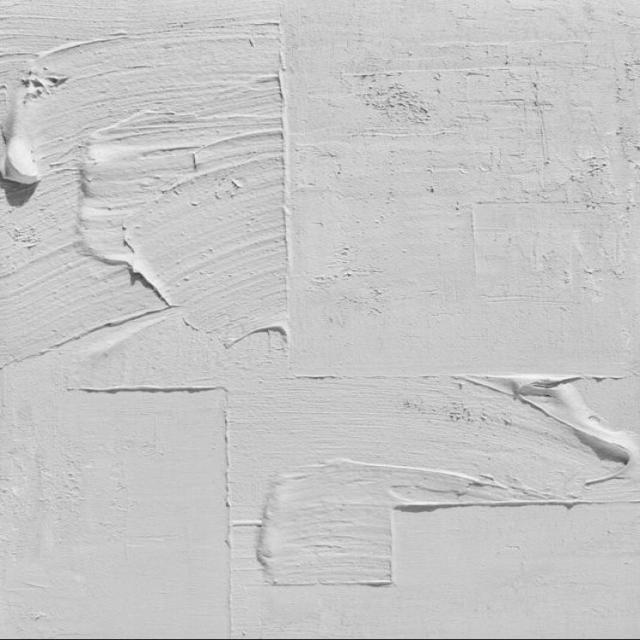trowels marks: (0, 0, 640, 369), (65, 372, 640, 640)
